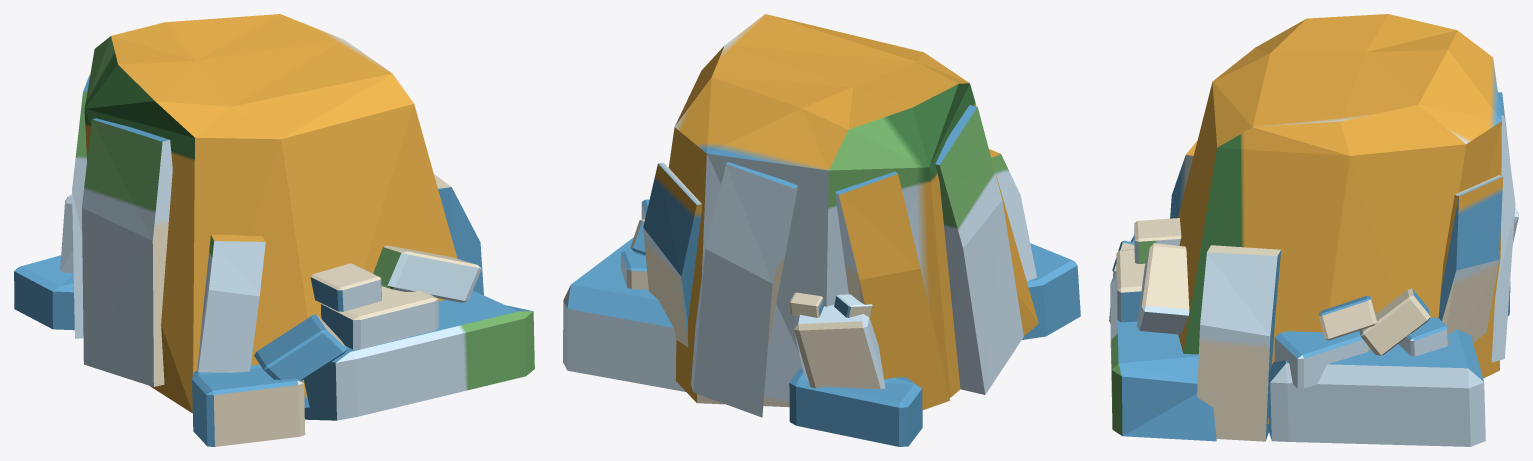
The model's file is Rock_3  (4).fbx.
The picture shows the model from 3 angles, left to right: view 1: azimuth 30°, elevation 25°; view 2: azimuth 150°, elevation 25°; view 3: azimuth 270°, elevation 25°; orthographic projection. The views are drawn at different scales.
Visible parts, largest first — view 1: Rock_3; view 2: Rock_3; view 3: Rock_3.
Part boxes in pixels (x1=…): Rock_3: x1=14, y1=14, x2=534, y2=446; Rock_3: x1=563, y1=14, x2=1080, y2=446; Rock_3: x1=1109, y1=14, x2=1518, y2=446.
Bounding box in the file's own units: 13.66 × 10.87 × 13.6.
